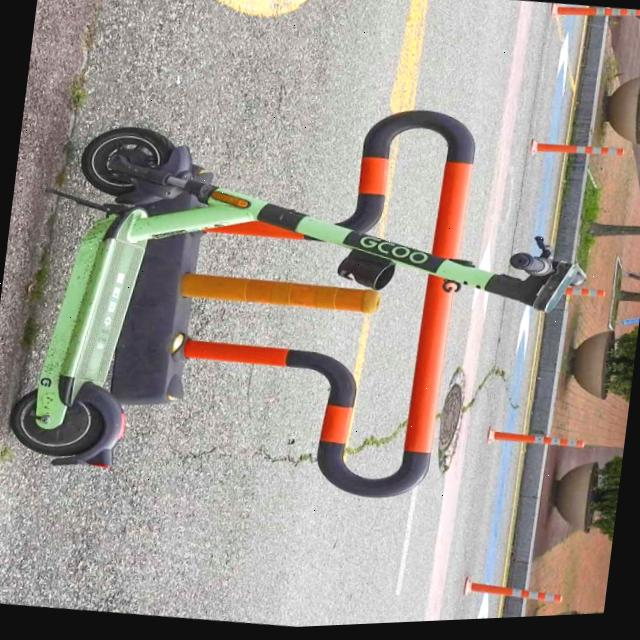kickboard_no: (14, 87, 580, 533)
